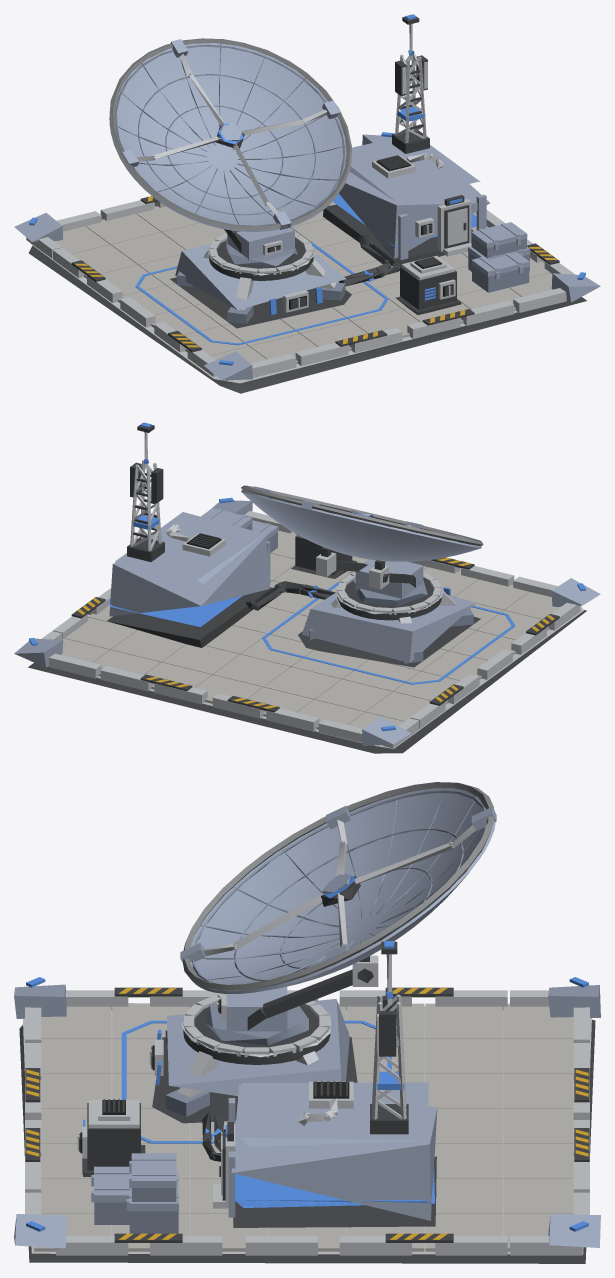
File: radar.glb
3 renders of one model, top to bottom at view 1: azimuth 30°, elevation 25°; view 2: azimuth 150°, elevation 25°; view 3: azimuth 270°, elevation 25°, orthographic. The views are drawn at different scales.
Parts seen in each view (by area): view 1: Base, Dish; view 2: Base, Dish; view 3: Base, Dish.
Boxes of the visible parts, <box> form: Base: <box>14,14,600,393</box>; Dish: <box>109,38,351,266</box>; Base: <box>14,422,600,753</box>; Dish: <box>241,485,483,606</box>; Base: <box>14,941,600,1263</box>; Dish: <box>180,782,496,1045</box>.
Bounding box in the file's own units: 11.36 × 5.94 × 10.81.
